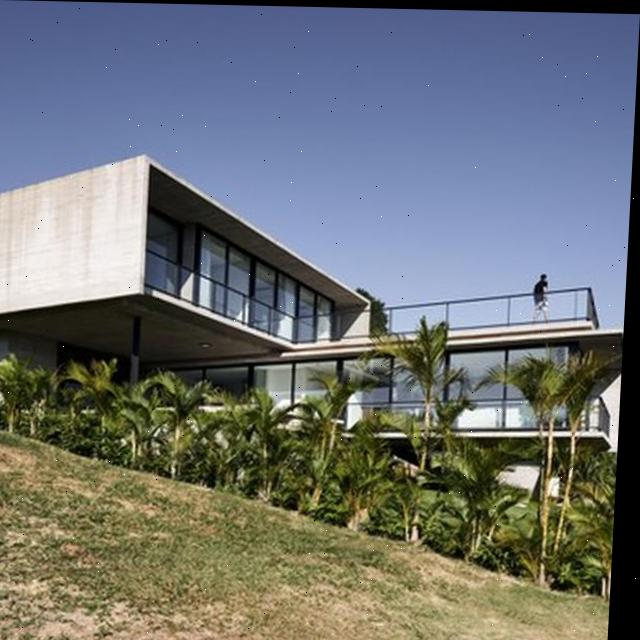building: (0, 152, 628, 452)
